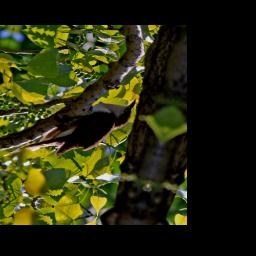Cuckoo: (12, 77, 138, 172)
